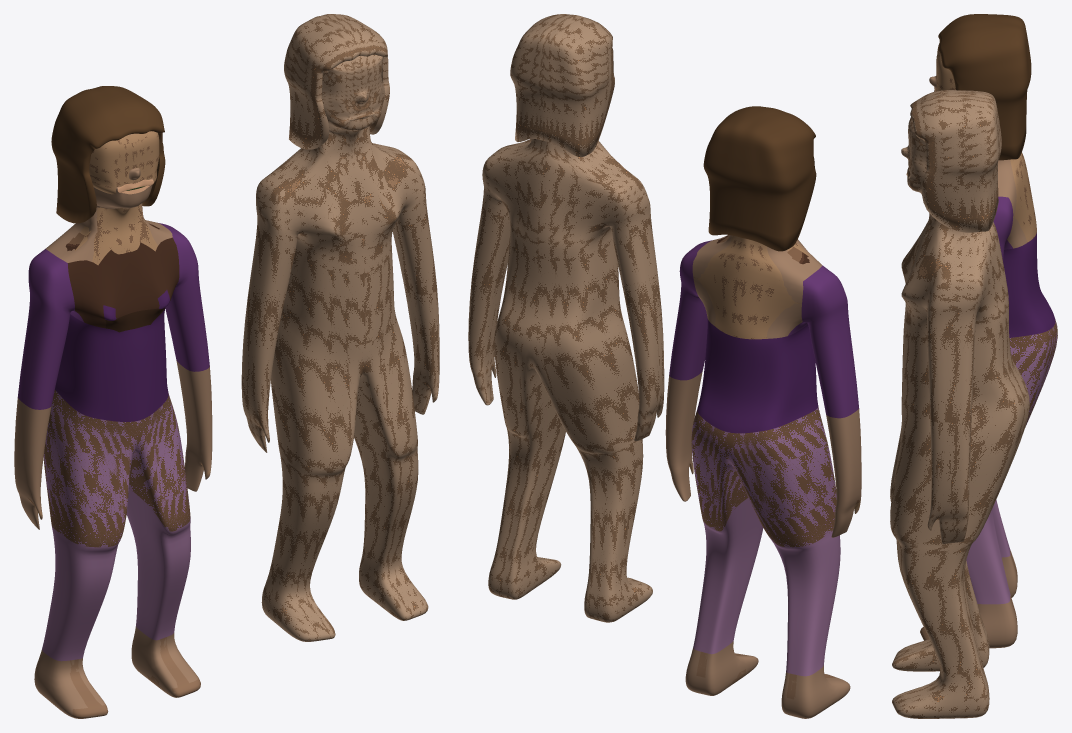
The model's file is the lady.fbx.
3 views of the same model, side by side, from view 1: azimuth 30°, elevation 25°; view 2: azimuth 150°, elevation 25°; view 3: azimuth 270°, elevation 25° (orthographic). The views are drawn at different scales.
Parts seen in each view (by area): view 1: Cube.001, Cube.008, Cube.013, Cube.002; view 2: Cube.001, Cube.008, Cube.013, Cube.002; view 3: Cube.001, Cube.008, Cube.002, Cube.013.
Boxes of the visible parts, x1=… form: Cube.001: x1=241, y1=14, x2=439, y2=641; Cube.008: x1=14, y1=134, x2=212, y2=718; Cube.013: x1=28, y1=131, x2=210, y2=718; Cube.002: x1=51, y1=86, x2=165, y2=223; Cube.001: x1=468, y1=14, x2=664, y2=622; Cube.008: x1=665, y1=235, x2=861, y2=718; Cube.013: x1=689, y1=235, x2=860, y2=703; Cube.002: x1=703, y1=106, x2=816, y2=251; Cube.001: x1=890, y1=90, x2=1029, y2=718; Cube.008: x1=929, y1=76, x2=1057, y2=648; Cube.002: x1=938, y1=14, x2=1031, y2=160; Cube.013: x1=920, y1=43, x2=1055, y2=640.
Bounding box in the file's own units: 471 × 698 × 168.
Materials: 2 (2 with a texture image).
